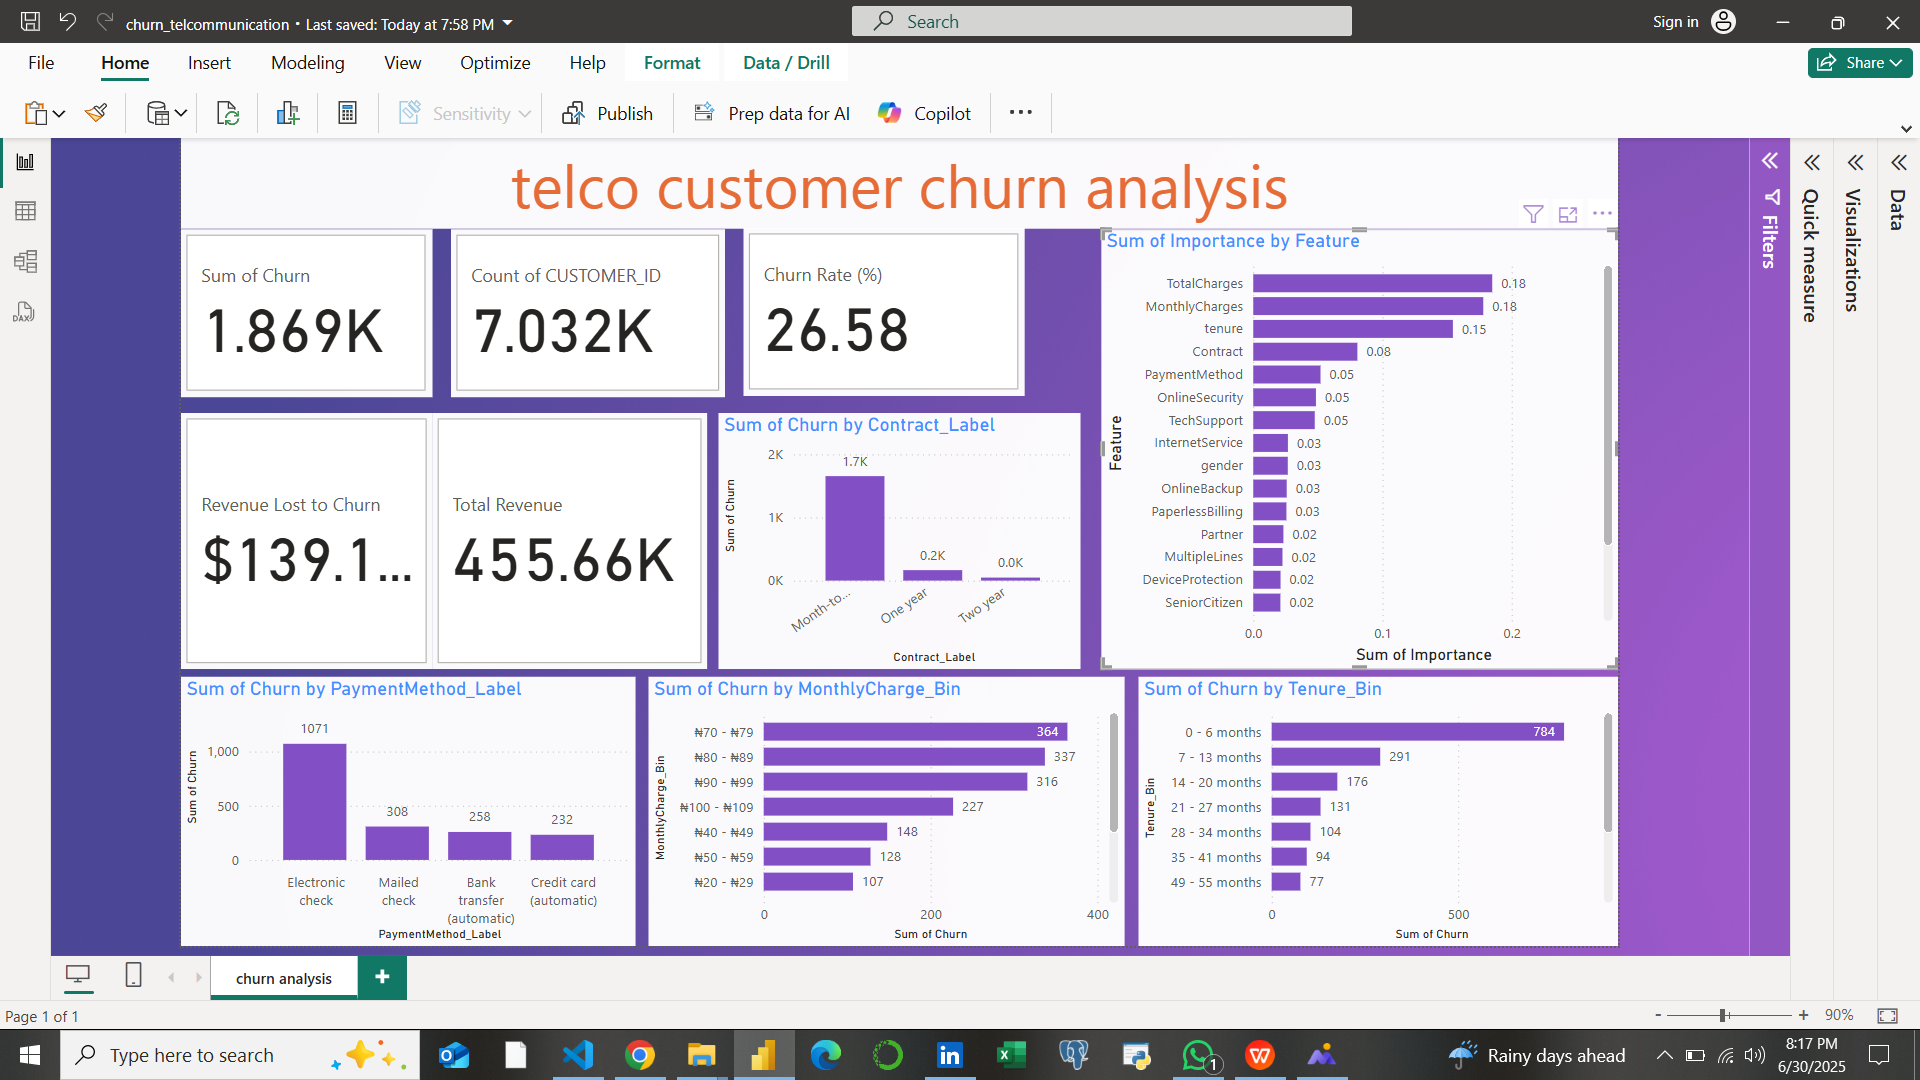

What the dashboard file says about the page in this screenshot:
{"tool":"powerbi","page":{"name":"churn analysis","canvas":[1280,720],"ordinal":0},"visuals":[{"type":"textbox","box":[0,0,1280.3,81],"z":1},{"type":"cardVisual","fields":{"Data":["CountNonNull(telco_churn_predictions.CUSTOMER_ID)"]},"box":[240.1,80.9,244.2,149.7],"z":3},{"type":"columnChart","fields":{"Category":["telco_churn_predictions.Contract_Label"],"Y":["Sum(telco_churn_predictions.Churn)"]},"box":[478.9,245.1,322.1,228.3],"z":4},{"type":"barChart","fields":{"Y":["Sum(telco_churn_predictions.Churn)"],"Category":["telco_churn_predictions.MonthlyCharge_Bin"]},"box":[416.9,480.3,423.6,240.1],"z":5},{"type":"barChart","fields":{"Y":["Sum(telco_churn_predictions.Churn)"],"Category":["telco_churn_predictions.Tenure_Bin"]},"box":[852.6,480.3,427.7,240.1],"z":6},{"type":"barChart","fields":{"Y":["Sum(feature_importance.Importance)"],"Category":["feature_importance.Feature"]},"box":[819.3,81.3,460.9,391.8],"z":7},{"type":"cardVisual","fields":{"Data":["Sum(telco_churn_predictions.Churn)"]},"box":[0,80.9,223.9,149.7],"z":8},{"type":"columnChart","fields":{"Category":["telco_churn_predictions.PaymentMethod_Label"],"Y":["Sum(telco_churn_predictions.Churn)"]},"box":[0,480.3,404.7,240.1],"z":9},{"type":"cardVisual","fields":{"Data":["telco_churn_predictions.Churn Rate (%)"]},"box":[500.4,80.7,250.2,149.7],"z":10},{"type":"cardVisual","fields":{"Data":["telco_churn_predictions.Revenue Lost to Churn"]},"box":[0,245.1,224.1,228.3],"z":11},{"type":"cardVisual","fields":{"Data":["telco_churn_predictions.Total Revenue"]},"box":[224.1,245.1,245.1,228.3],"z":12}]}

Visuals, with their boxes on the page's 1280x720 design canvas (x1, y1, x2, y2). These are canvas units, not pixel positions in the 1920x1080 screenshot, which may show the page scaled, cropped or inside an application window:
textbox: l=0, t=0, r=1280, b=81
cardVisual - CountNonNull(telco_churn_predictions.CUSTOMER_ID): l=240, t=81, r=484, b=231
columnChart - telco_churn_predictions.Contract_Label x Sum(telco_churn_predictions.Churn): l=479, t=245, r=801, b=473
barChart - Sum(telco_churn_predictions.Churn) x telco_churn_predictions.MonthlyCharge_Bin: l=417, t=480, r=840, b=720
barChart - Sum(telco_churn_predictions.Churn) x telco_churn_predictions.Tenure_Bin: l=853, t=480, r=1280, b=720
barChart - Sum(feature_importance.Importance) x feature_importance.Feature: l=819, t=81, r=1280, b=473
cardVisual - Sum(telco_churn_predictions.Churn): l=0, t=81, r=224, b=231
columnChart - telco_churn_predictions.PaymentMethod_Label x Sum(telco_churn_predictions.Churn): l=0, t=480, r=405, b=720
cardVisual - telco_churn_predictions.Churn Rate (%): l=500, t=81, r=751, b=230
cardVisual - telco_churn_predictions.Revenue Lost to Churn: l=0, t=245, r=224, b=473
cardVisual - telco_churn_predictions.Total Revenue: l=224, t=245, r=469, b=473
